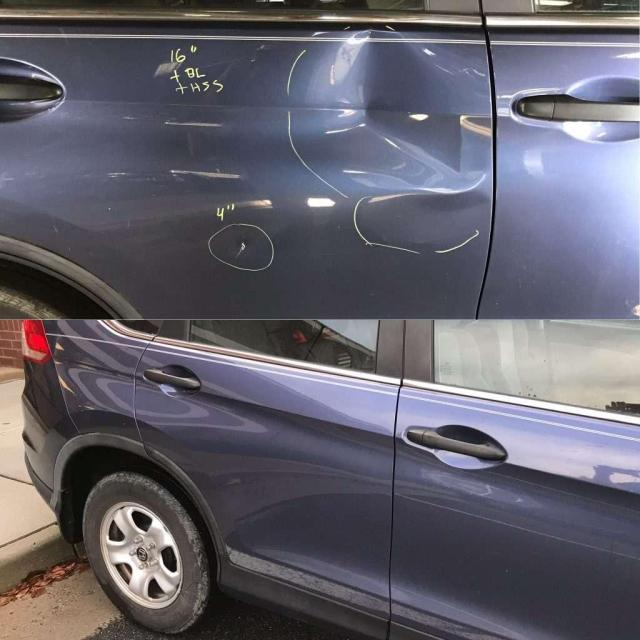dent: (300, 28, 494, 198), (360, 191, 490, 247), (233, 235, 253, 261)
